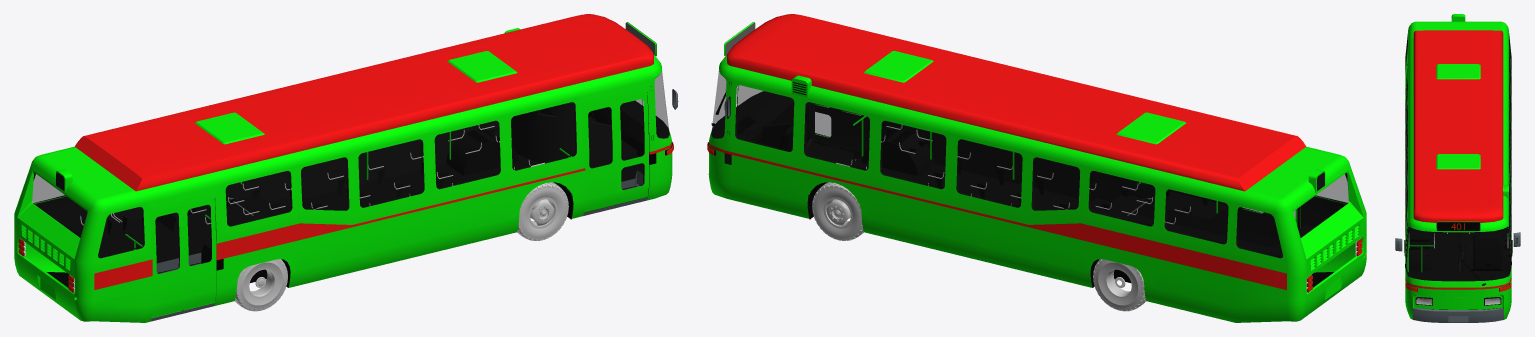
The model's file is bus_401_.obj.
3 views of the same model, side by side, from view 1: azimuth 30°, elevation 25°; view 2: azimuth 150°, elevation 25°; view 3: azimuth 270°, elevation 25° (orthographic). The views are drawn at different scales.
Parts seen in each view (by area): view 1: Object_25_Object_23, Object_34_Object_32, Object_16_Object_14, Object_22_Object_20, Object_27_Object_25, Object_33_Object_31, Object_10_Object_8, Object_12_Object_10, Object_17_Object_15, Object_6_Object_4, Object_8_Object_6; view 2: Object_25_Object_23, Object_34_Object_32, Object_16_Object_14, Object_22_Object_20, Object_27_Object_25, Object_33_Object_31, Object_11_Object_9, Object_14_Object_12, Object_6_Object_4, Object_8_Object_6; view 3: Object_34_Object_32, Object_25_Object_23, Object_22_Object_20, Object_16_Object_14, Object_17_Object_15, Object_33_Object_31, Object_27_Object_25, 401_Plane, Object_18_Object_16, Object_6_Object_4, Object_8_Object_6, Object_29_Object_27.
Boxes of the visible parts, <box> form: Object_25_Object_23: <box>14,22,672,322</box>; Object_34_Object_32: <box>75,14,672,289</box>; Object_16_Object_14: <box>32,72,669,272</box>; Object_22_Object_20: <box>33,76,678,310</box>; Object_27_Object_25: <box>33,92,649,229</box>; Object_33_Object_31: <box>15,131,671,319</box>; Object_10_Object_8: <box>517,182,568,240</box>; Object_12_Object_10: <box>235,259,287,311</box>; Object_17_Object_15: <box>150,170,672,321</box>; Object_6_Object_4: <box>47,86,653,287</box>; Object_8_Object_6: <box>80,125,544,225</box>; Object_25_Object_23: <box>709,22,1366,322</box>; Object_34_Object_32: <box>709,14,1305,290</box>; Object_16_Object_14: <box>711,72,1348,256</box>; Object_22_Object_20: <box>708,75,1347,258</box>; Object_27_Object_25: <box>754,102,1347,247</box>; Object_33_Object_31: <box>709,131,1365,319</box>; Object_11_Object_9: <box>812,182,863,240</box>; Object_14_Object_12: <box>1093,259,1146,311</box>; Object_6_Object_4: <box>727,81,1333,287</box>; Object_8_Object_6: <box>836,125,1190,224</box>; Object_34_Object_32: <box>1405,30,1511,289</box>; Object_25_Object_23: <box>1405,14,1511,319</box>; Object_22_Object_20: <box>1398,34,1520,305</box>; Object_16_Object_14: <box>1406,67,1510,304</box>; Object_17_Object_15: <box>1406,159,1510,322</box>; Object_33_Object_31: <box>1405,270,1511,317</box>; Object_27_Object_25: <box>1406,45,1510,274</box>; 401_Plane: <box>1437,222,1479,230</box>; Object_18_Object_16: <box>1395,232,1520,322</box>; Object_6_Object_4: <box>1405,226,1511,309</box>; Object_8_Object_6: <box>1409,228,1508,305</box>; Object_29_Object_27: <box>1405,284,1511,291</box>.
Bounding box in the file's own units: 130 × 32.36 × 31.86.
